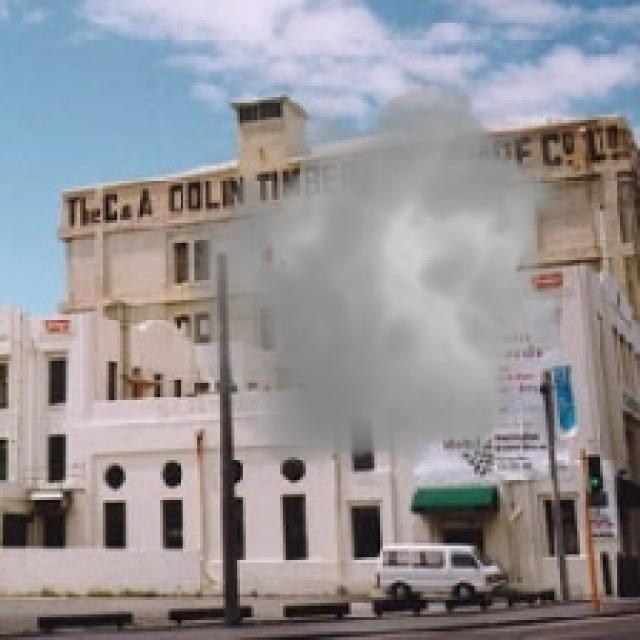smoke: (174, 68, 583, 486)
